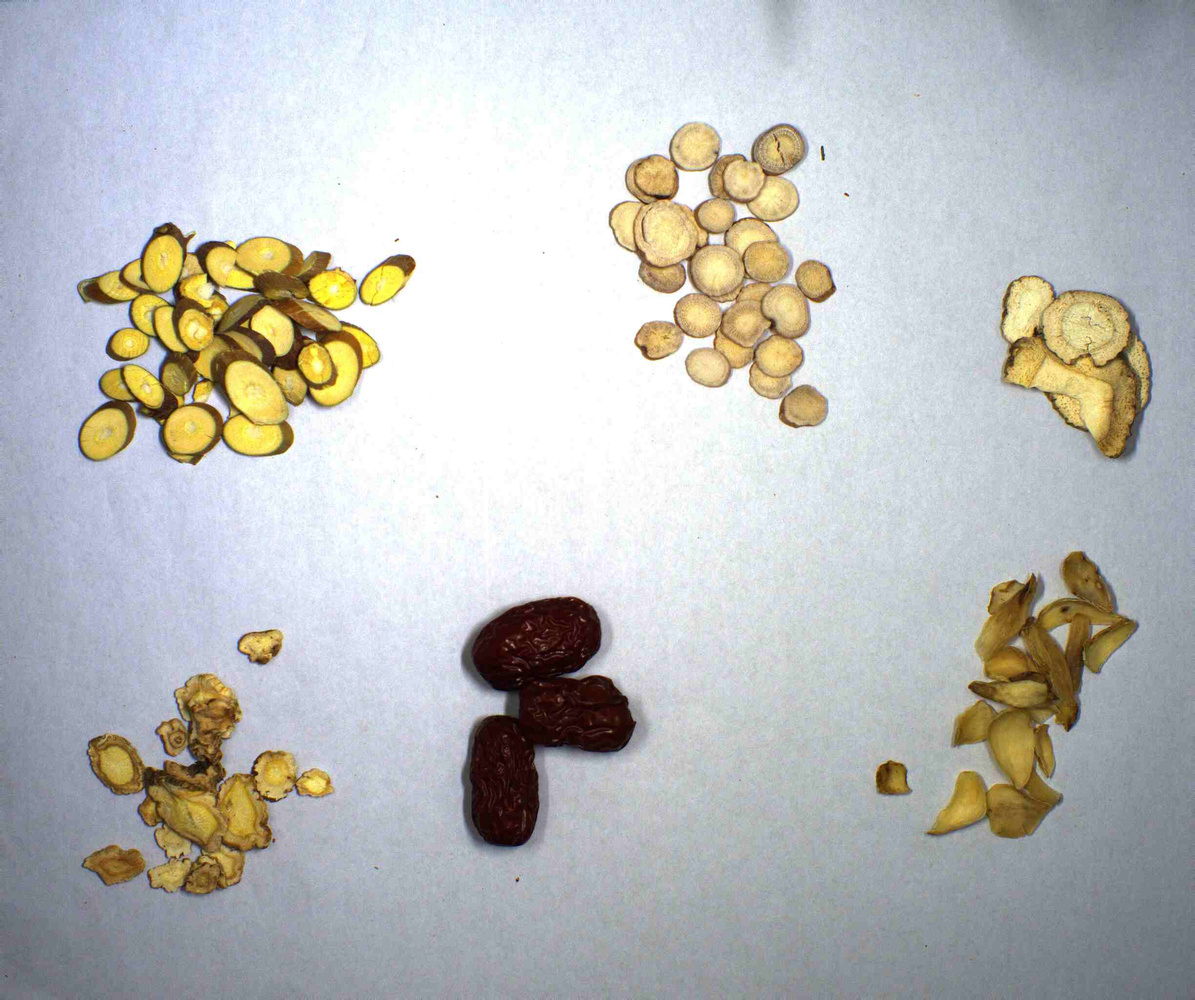baihe: (876, 535, 1137, 854)
baishao: (615, 126, 848, 435)
baizhi: (985, 258, 1178, 458)
dazao: (432, 587, 662, 883)
jiegeng: (67, 614, 351, 908)
sangzhi: (51, 201, 443, 473)
